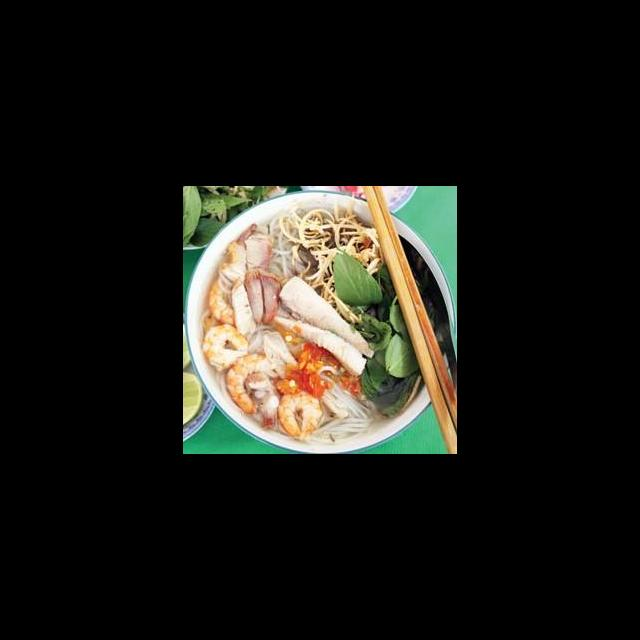bun: (300, 370, 382, 446), (260, 210, 307, 279)
ca: (276, 272, 376, 361), (269, 309, 369, 378)
thit heo quay: (242, 268, 285, 329), (242, 232, 275, 290)
tom: (221, 350, 284, 418), (198, 319, 251, 372), (276, 386, 324, 443), (205, 274, 246, 328)
